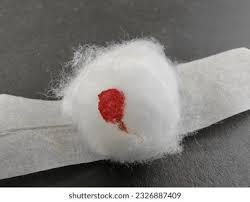cotton: (55, 39, 244, 161), (61, 39, 179, 161), (0, 94, 108, 178), (0, 94, 101, 178), (176, 48, 249, 134), (0, 94, 71, 137), (98, 88, 127, 132)
